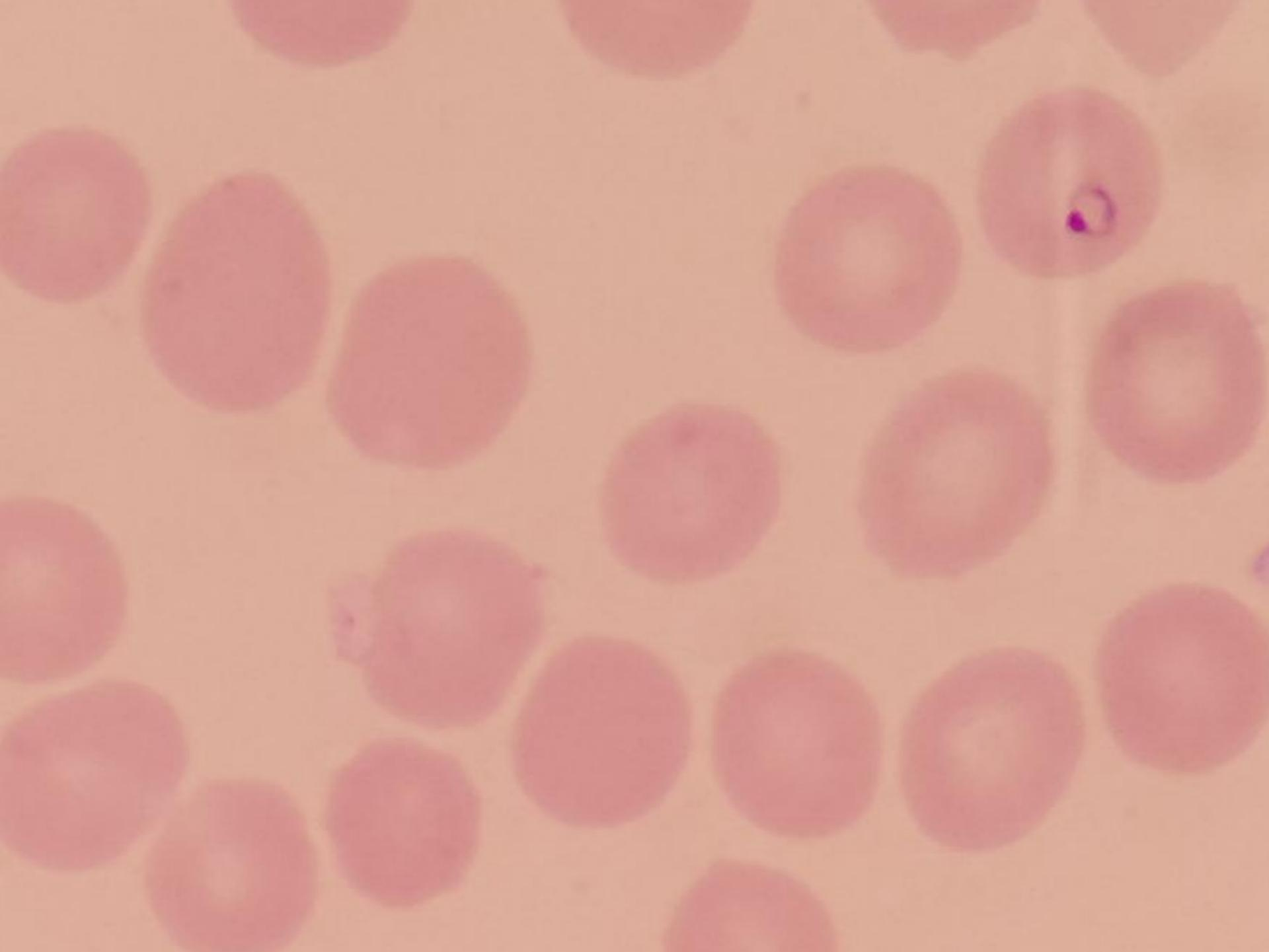Infected: (977, 85, 1169, 277)
Uninfected: (317, 251, 532, 474), (137, 172, 330, 410), (858, 364, 1055, 581), (365, 529, 551, 730), (904, 648, 1086, 853), (509, 635, 696, 828), (1092, 281, 1269, 484), (772, 164, 960, 352), (0, 687, 192, 871), (596, 402, 783, 585), (715, 654, 885, 840), (1102, 583, 1269, 772), (150, 785, 323, 951), (324, 737, 485, 910), (0, 128, 158, 299), (0, 499, 133, 686)
